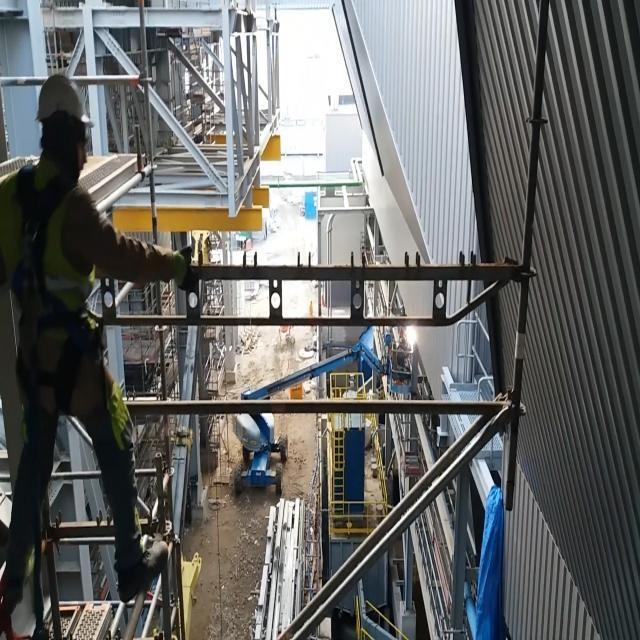Arnes_seguridad: (5, 147, 106, 428)
